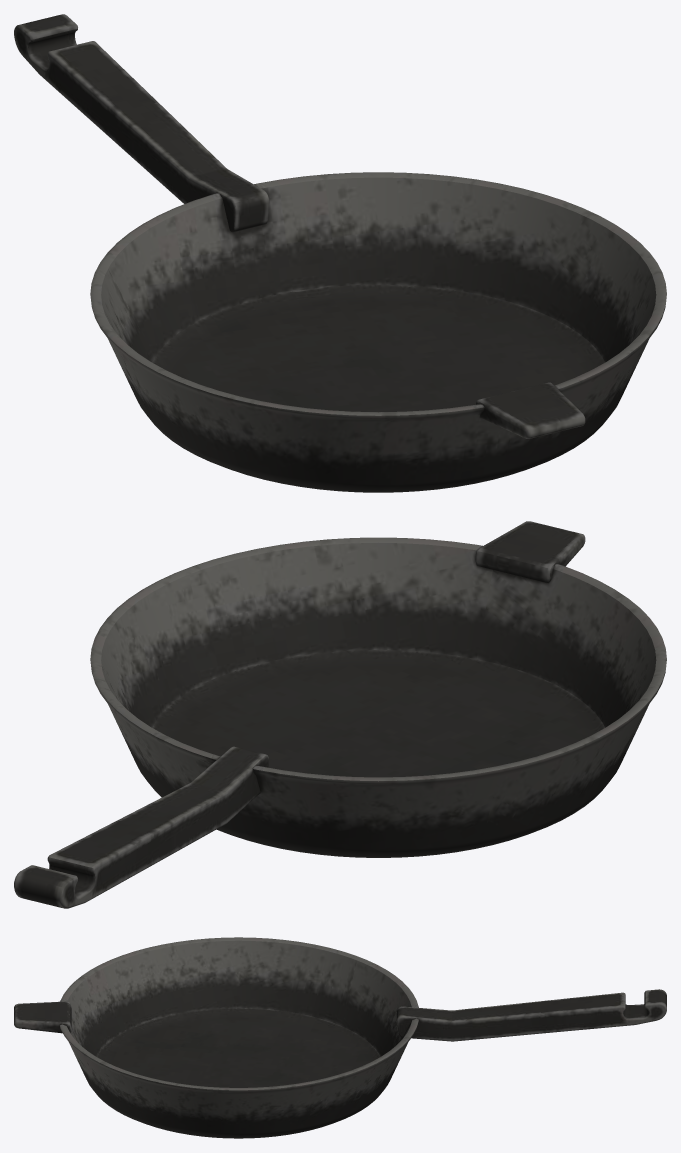
Rendered from melee_pan.glb.
3 renders of one model, top to bottom at view 1: azimuth 30°, elevation 25°; view 2: azimuth 150°, elevation 25°; view 3: azimuth 270°, elevation 25°, orthographic. The views are drawn at different scales.
Visible parts, largest first — view 1: body; view 2: body; view 3: body.
Boxes of the visible parts, x1,y1,x2,y2 form: body: (14,14,666,492); body: (14,521,666,908); body: (14,937,666,1138).
Bounding box in the file's own units: 0.2576 × 0.0661 × 0.4649.
Materials: 1 (1 with a texture image).
